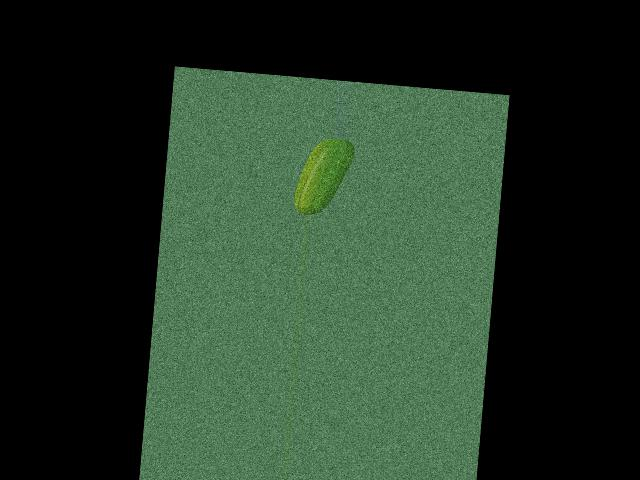cucumber: (293, 135, 356, 218)
